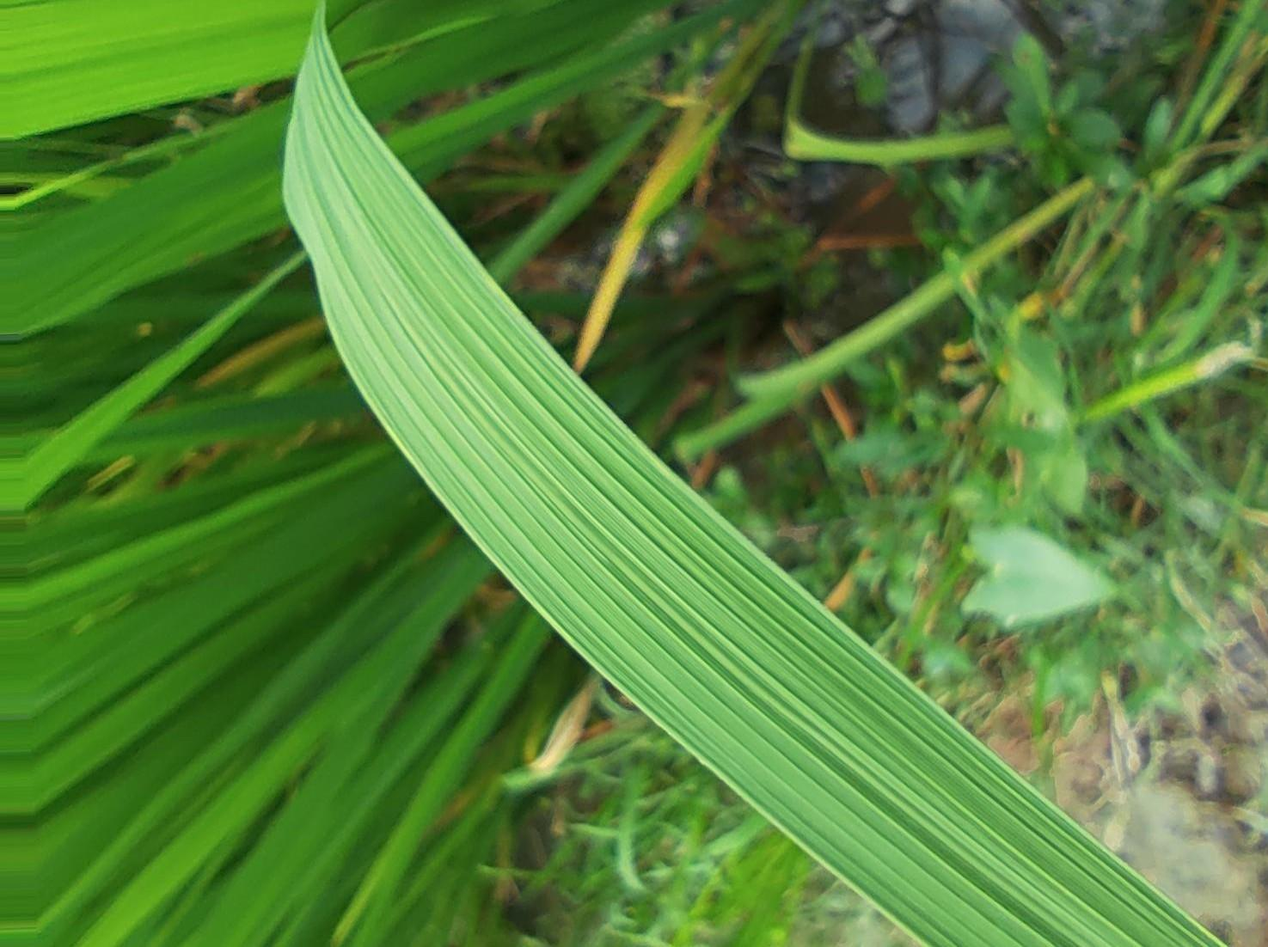Healthy: (282, 1, 1226, 946)
